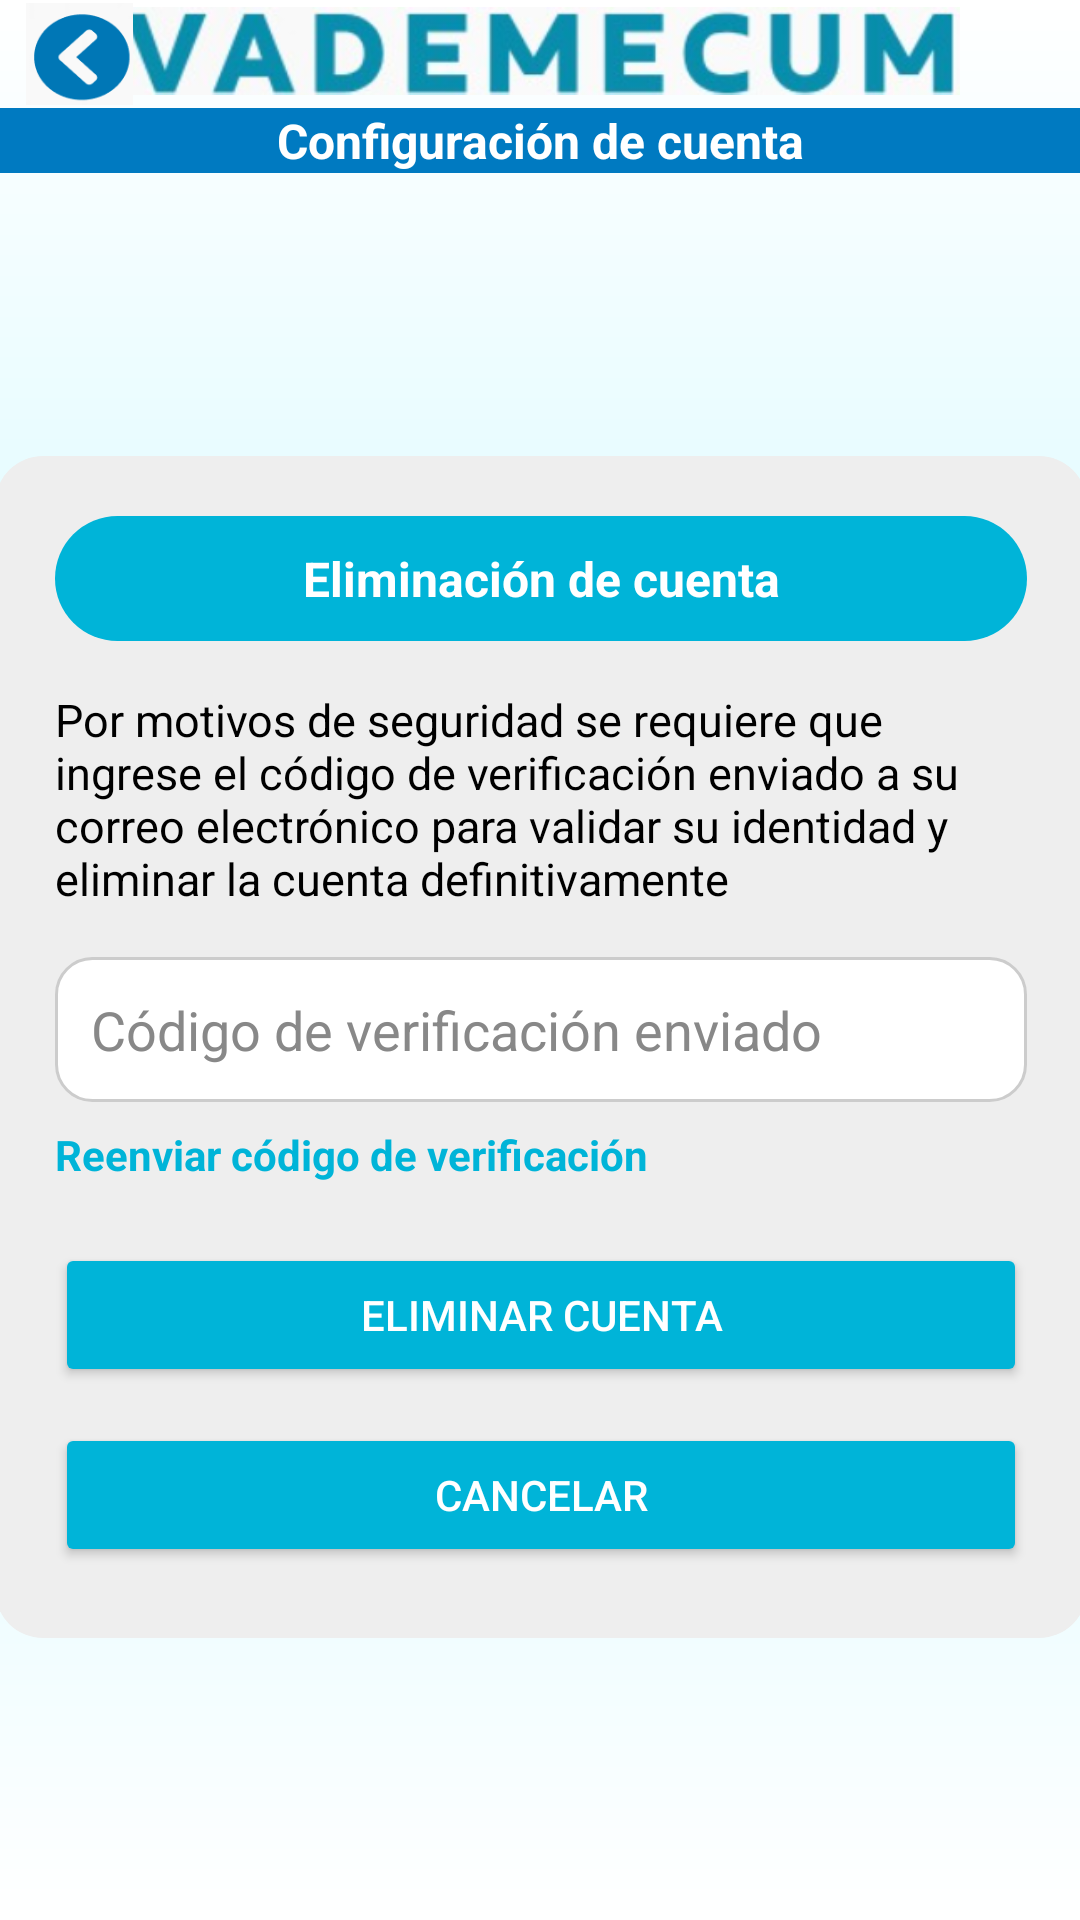

Locate icon controls on the screen. Image size 1080px×1920px, boxes as (x1, y1, x2, y2).
imgatras: (34, 14, 130, 101)
